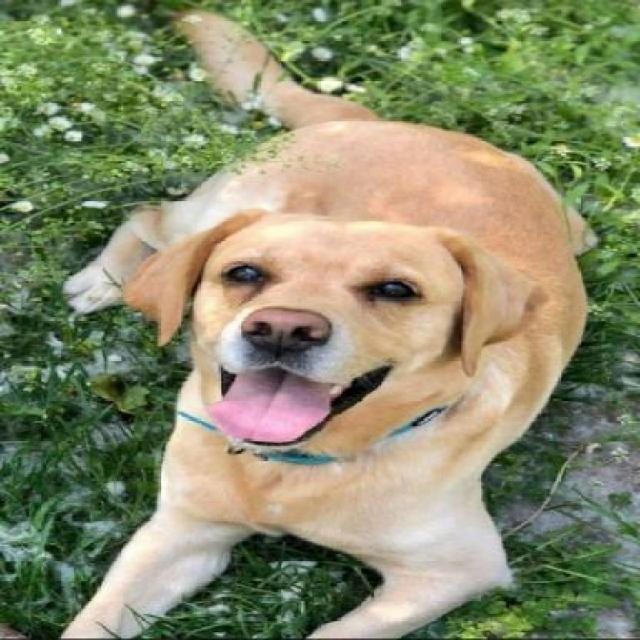Dog: (59, 6, 602, 639)
